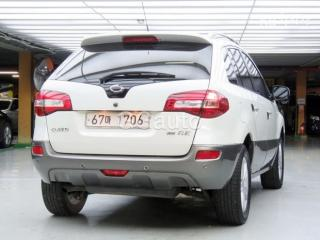0: (130, 114, 137, 126)
1: (116, 114, 122, 125)
6: (137, 113, 144, 126), (91, 114, 98, 125)
7: (122, 114, 130, 126), (98, 114, 105, 125)
plate: (81, 107, 154, 133)
마: (105, 115, 112, 125)
